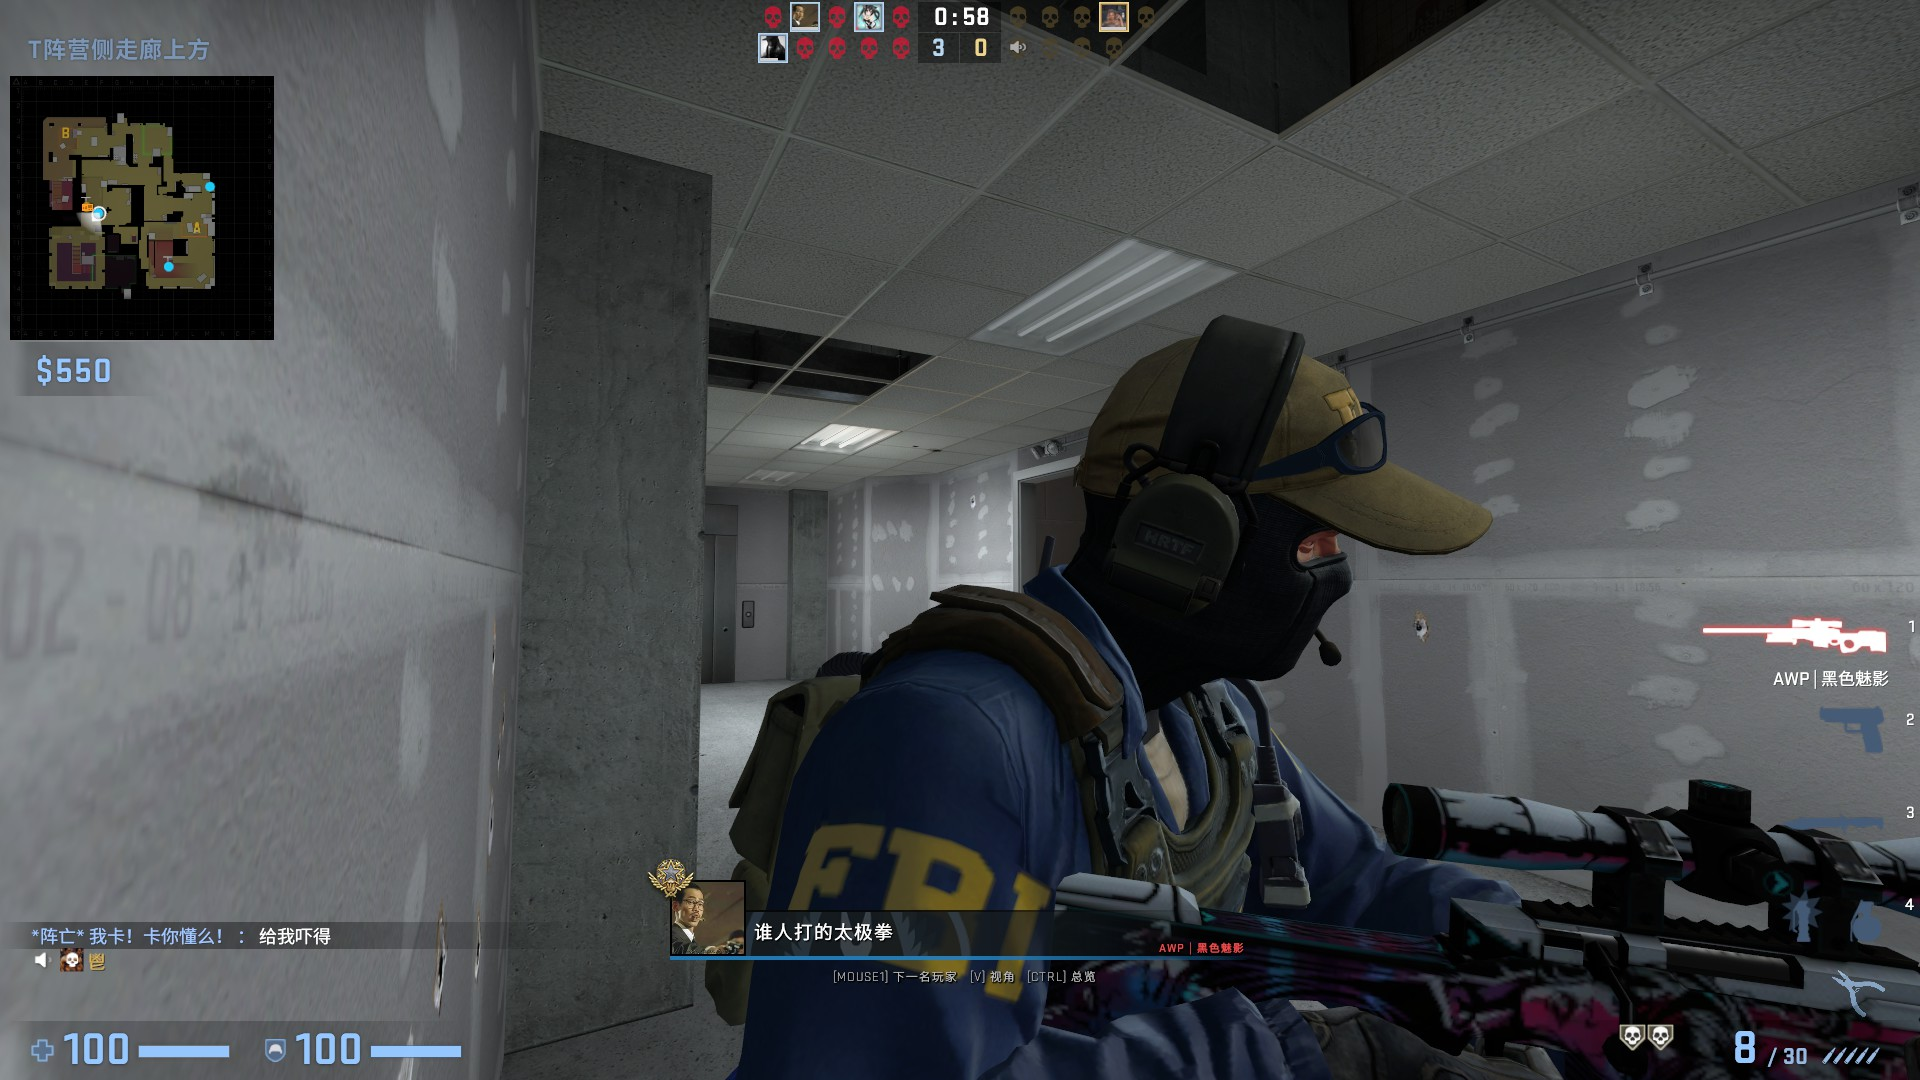head: (1079, 311, 1491, 683)
